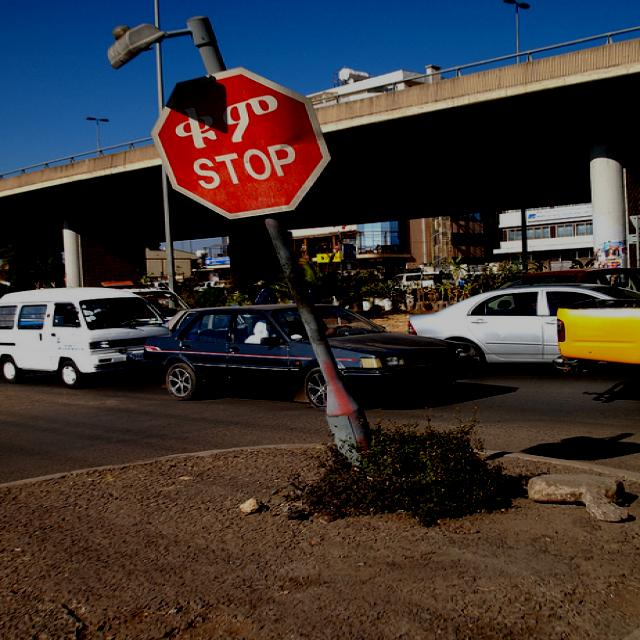Vehicle: (143, 303, 480, 412), (408, 282, 640, 364), (0, 284, 169, 386), (559, 298, 640, 364)
